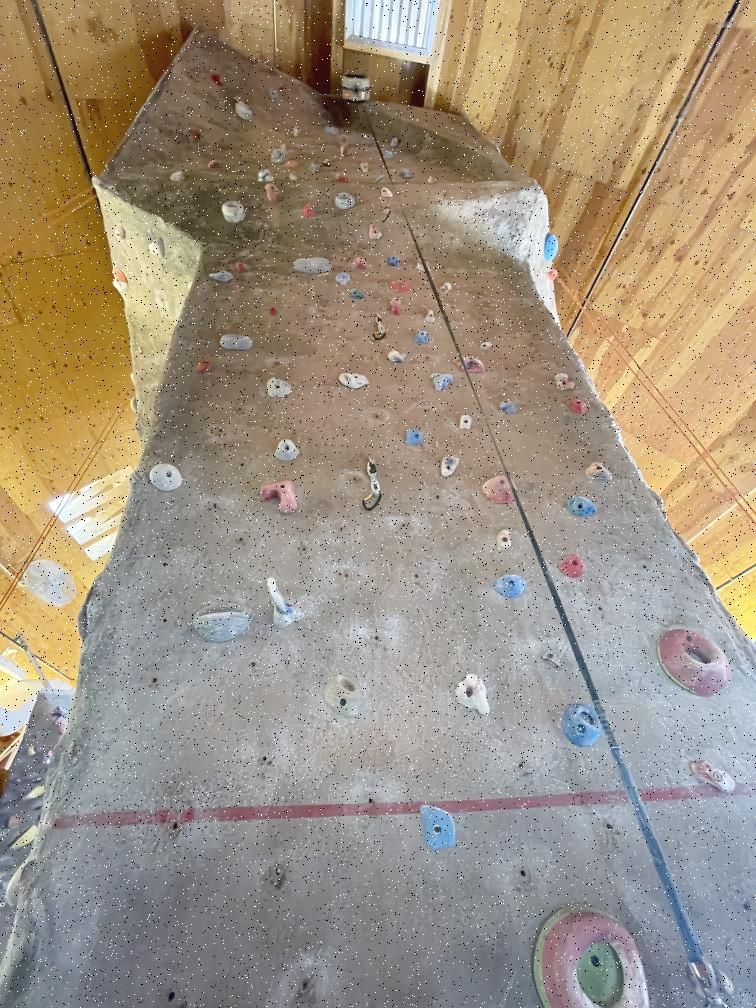Crimp: (413, 800, 464, 864), (564, 397, 592, 415), (496, 397, 521, 417), (166, 168, 189, 185), (411, 328, 431, 346), (477, 338, 494, 354), (425, 306, 435, 324), (28, 743, 36, 758), (287, 172, 299, 182)
Edges: (445, 666, 502, 726), (334, 370, 375, 394), (7, 824, 42, 851), (439, 452, 461, 481), (20, 783, 46, 803), (207, 267, 235, 285), (387, 349, 408, 364), (7, 813, 24, 829), (301, 202, 316, 220), (368, 222, 383, 240), (378, 185, 394, 200), (336, 271, 351, 286), (268, 87, 279, 103)
Foothold: (193, 357, 214, 373), (424, 174, 436, 186), (267, 306, 277, 318)
Hand-holds: (255, 477, 304, 515), (478, 472, 523, 506), (447, 354, 489, 381), (565, 493, 600, 520), (552, 372, 582, 394), (429, 370, 455, 393), (389, 294, 404, 318), (414, 256, 433, 274), (256, 166, 274, 184), (288, 124, 304, 138), (43, 749, 53, 765)
Jug: (183, 591, 257, 656), (484, 569, 533, 602), (493, 528, 524, 560), (554, 553, 589, 580), (271, 436, 304, 463), (263, 374, 293, 403), (145, 237, 169, 261), (180, 126, 203, 146), (401, 428, 427, 445), (457, 412, 476, 432), (262, 183, 278, 205), (306, 159, 322, 176), (233, 260, 251, 274), (50, 705, 69, 718), (55, 719, 69, 736), (338, 135, 351, 153), (347, 288, 366, 300), (438, 280, 454, 293), (387, 136, 404, 148), (398, 166, 412, 180), (386, 255, 402, 267), (547, 268, 559, 281), (322, 158, 332, 167)
Pinch: (260, 573, 310, 636), (688, 754, 740, 806), (208, 72, 225, 87), (204, 158, 224, 170)
Pocket: (512, 886, 662, 1008), (652, 625, 736, 702), (320, 667, 368, 727), (560, 700, 606, 753), (221, 196, 248, 226), (109, 264, 131, 298), (220, 333, 255, 353), (233, 100, 258, 122), (333, 192, 355, 212), (284, 158, 300, 169), (359, 162, 370, 173)
Sloper: (144, 460, 191, 496), (583, 459, 616, 485), (288, 255, 334, 273), (543, 227, 560, 263), (387, 277, 415, 293), (268, 142, 286, 163), (350, 255, 368, 272), (334, 169, 350, 182), (113, 226, 126, 242), (322, 125, 340, 136), (381, 149, 395, 160)
